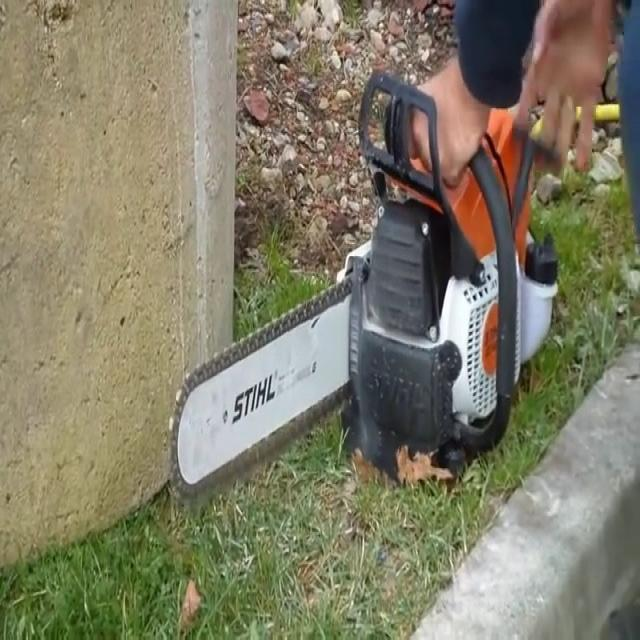Chainsaw: (155, 46, 576, 514)
